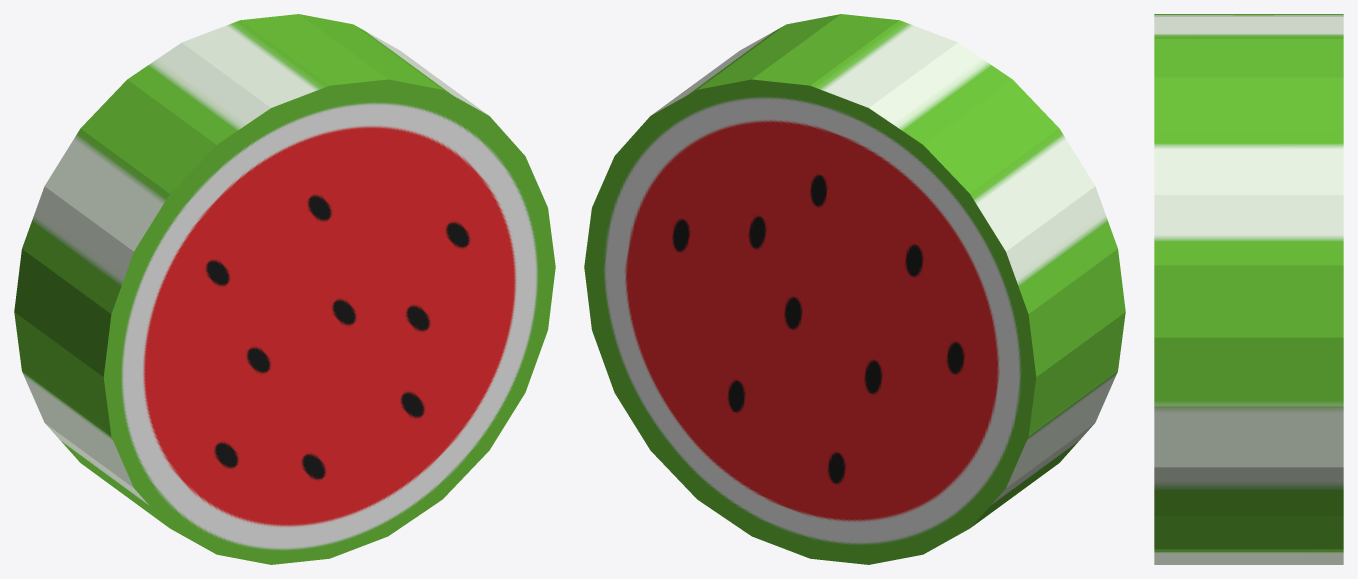
The model's file is Candy_Piece_One.fbx.
3 views of the same model, side by side, from view 1: azimuth 30°, elevation 25°; view 2: azimuth 150°, elevation 25°; view 3: azimuth 270°, elevation 25° (orthographic). The views are drawn at different scales.
Parts seen in each view (by area): view 1: Candy_Piece; view 2: Candy_Piece; view 3: Candy_Piece.
Part boxes in pixels (<box>): Candy_Piece: <box>14,14,555,564</box>; Candy_Piece: <box>584,14,1125,564</box>; Candy_Piece: <box>1154,14,1343,564</box>.
Size of the model in its own units: 100 by 100 by 34.28.
